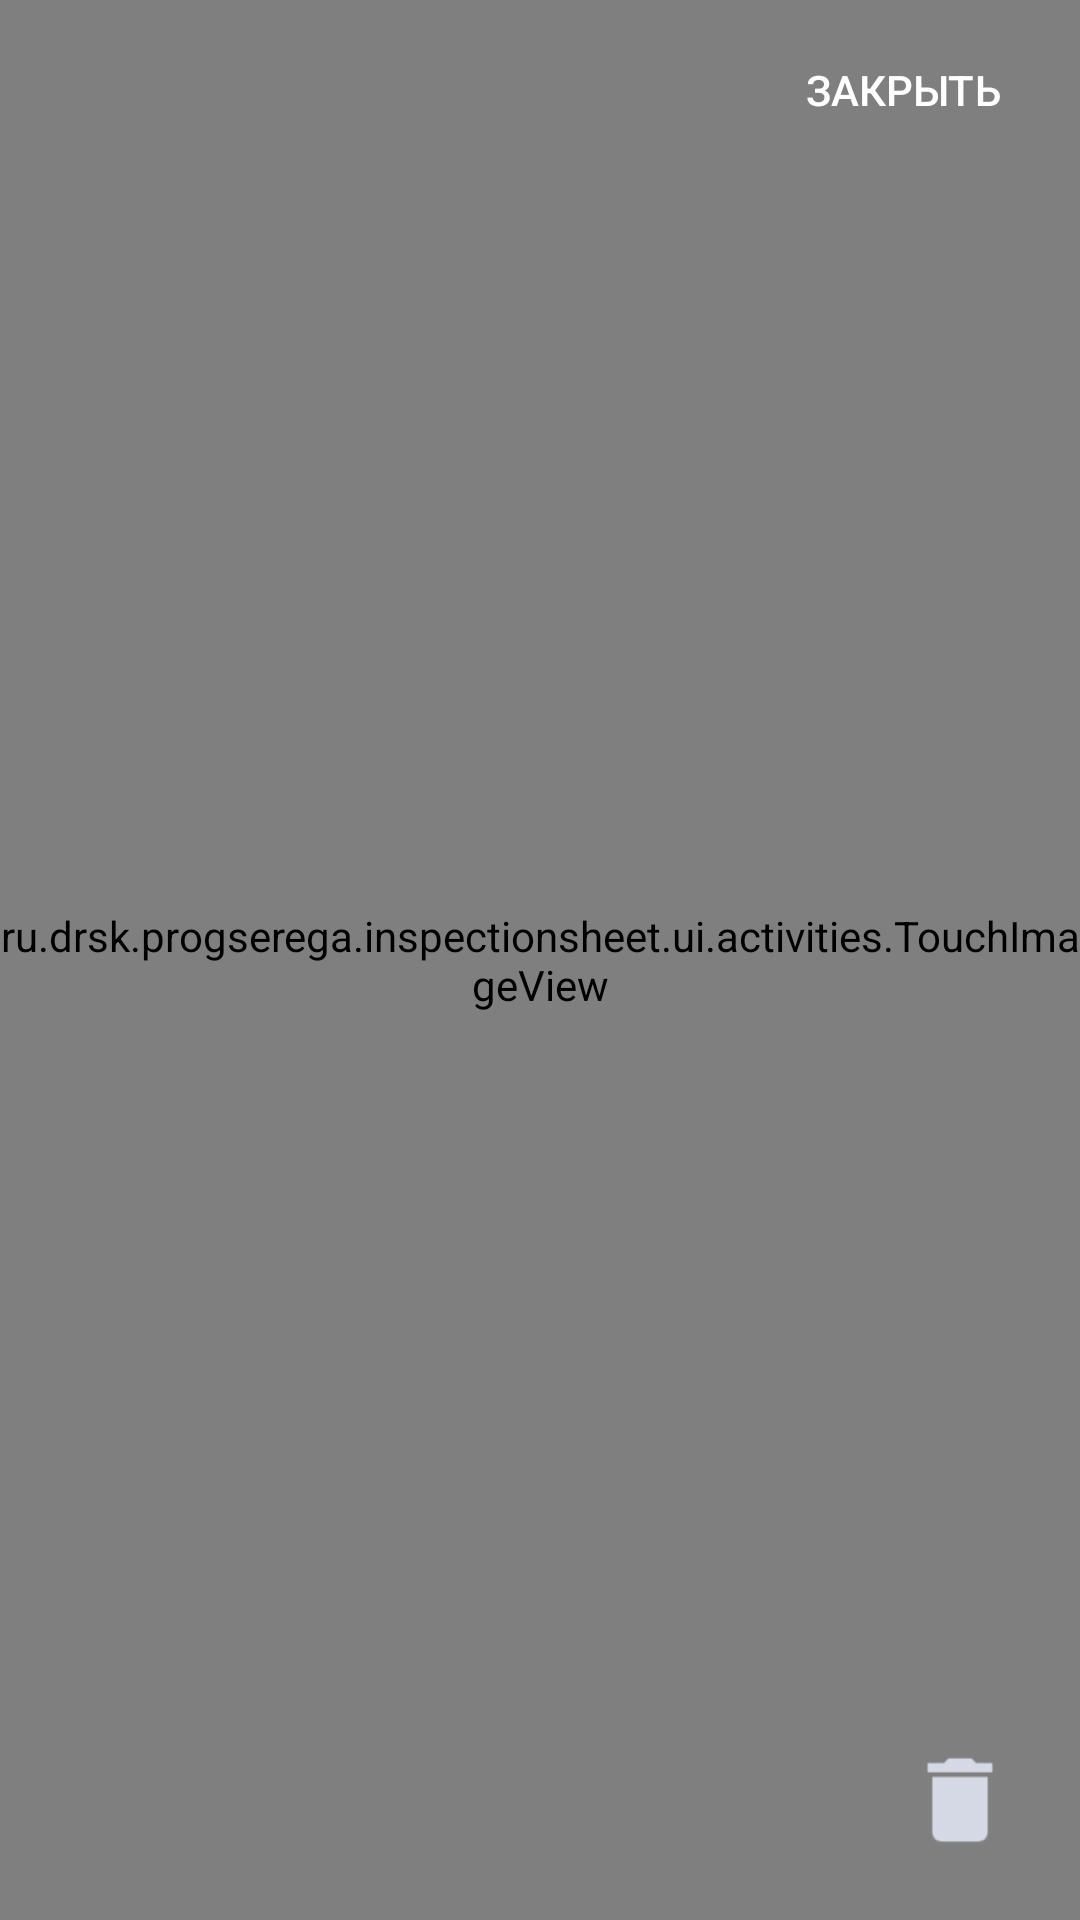

Where icons sit on this 1080px×1920px app screen, as (x1, y1, x2, y2):
delete: (927, 1758, 993, 1842)
